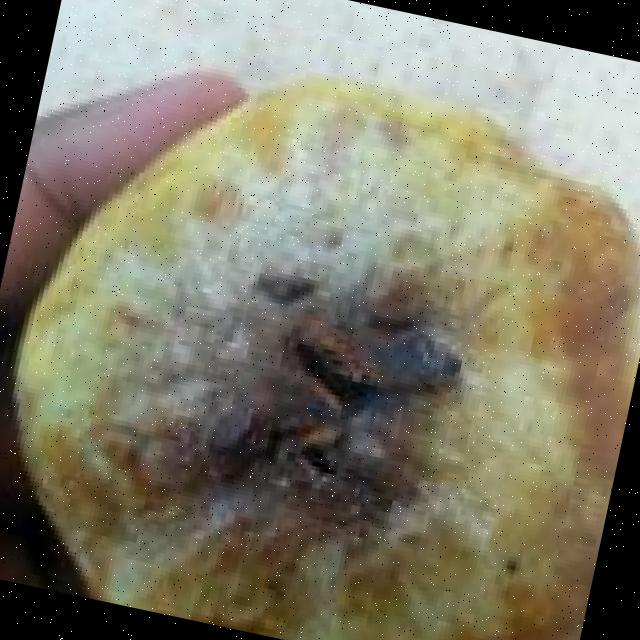Bad_Guava 0 day: (17, 77, 638, 640)
